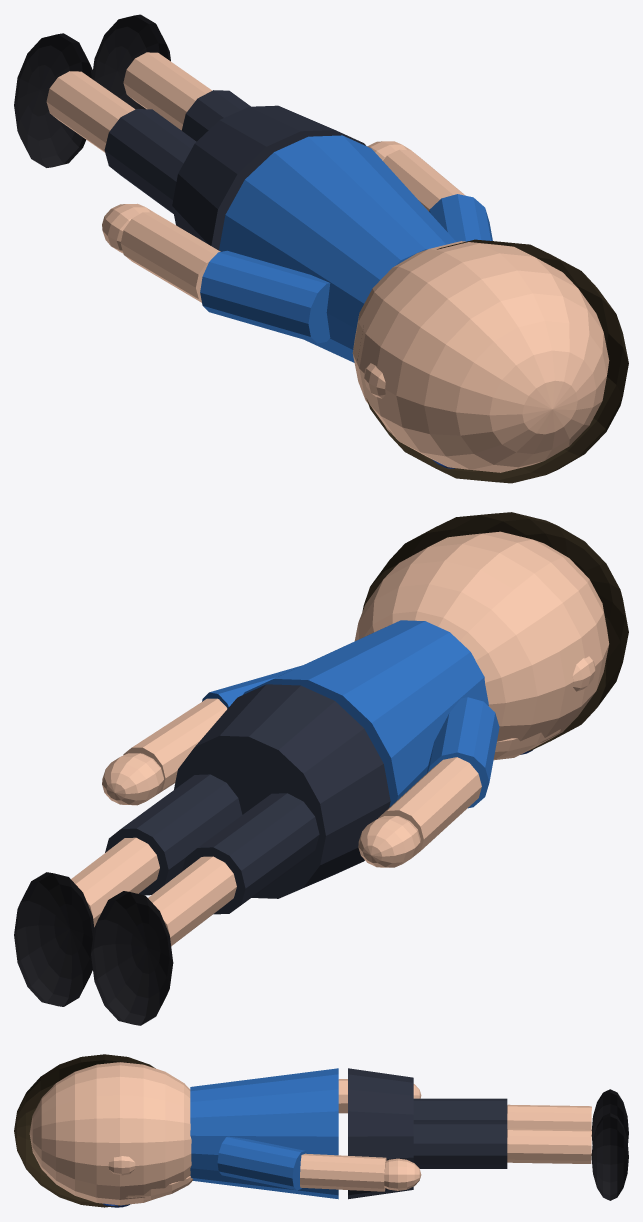
The model's file is anime_boy.obj.
3 renders of one model, top to bottom at view 1: azimuth 30°, elevation 25°; view 2: azimuth 150°, elevation 25°; view 3: azimuth 270°, elevation 25°, orthographic. The views are drawn at different scales.
Parts seen in each view (by area): view 1: Head, Torso, Waist, UpperArm_-1, HairCap, Shoe_-1, Thigh_-1, ForeArm_-1, LowerLeg_-1, LowerLeg_1, Shoe_1, ForeArm_1 (+3 smaller); view 2: Head, Waist, Torso, Shoe_-1, Shoe_1, HairCap, Thigh_-1, Thigh_1, ForeArm_-1, LowerLeg_-1, UpperArm_-1, LowerLeg_1 (+5 smaller); view 3: Head, Torso, Waist, Thigh_1, UpperArm_1, HairCap, ForeArm_1, LowerLeg_1, Shoe_1, Thigh_-1, LowerLeg_-1, Hand_1 (+4 smaller).
Boxes of the visible parts, left/top/right/bottom form: Head: left=352, top=241, right=609, bottom=472; Torso: left=219, top=135, right=456, bottom=362; Waist: left=172, top=105, right=365, bottom=250; UpperArm_-1: left=200, top=250, right=330, bottom=343; HairCap: left=357, top=239, right=628, bottom=483; Shoe_-1: left=14, top=33, right=93, bottom=167; Thigh_-1: left=104, top=109, right=196, bottom=213; ForeArm_-1: left=120, top=212, right=220, bottom=302; LowerLeg_-1: left=46, top=71, right=135, bottom=152; LowerLeg_1: left=123, top=52, right=212, bottom=130; Shoe_1: left=93, top=14, right=170, bottom=109; ForeArm_1: left=383, top=149, right=465, bottom=211; Head: left=354, top=531, right=609, bottom=760; Waist: left=174, top=684, right=390, bottom=898; Torso: left=243, top=620, right=488, bottom=807; Shoe_-1: left=91, top=891, right=173, bottom=1025; Shoe_1: left=14, top=872, right=94, bottom=1006; HairCap: left=362, top=512, right=628, bottom=751; Thigh_-1: left=182, top=793, right=319, bottom=914; Thigh_1: left=105, top=774, right=242, bottom=895; ForeArm_-1: left=378, top=757, right=481, bottom=856; LowerLeg_-1: left=148, top=856, right=236, bottom=945; UpperArm_-1: left=427, top=697, right=499, bottom=808; LowerLeg_1: left=71, top=837, right=159, bottom=927; Head: left=29, top=1062, right=191, bottom=1205; Torso: left=190, top=1068, right=338, bottom=1199; Waist: left=348, top=1068, right=413, bottom=1199; Thigh_1: left=413, top=1122, right=507, bottom=1168; UpperArm_1: left=217, top=1136, right=307, bottom=1190; HairCap: left=14, top=1054, right=155, bottom=1207; ForeArm_1: left=300, top=1153, right=386, bottom=1191; LowerLeg_1: left=507, top=1128, right=591, bottom=1163; Shoe_1: left=591, top=1113, right=628, bottom=1200; Thigh_-1: left=413, top=1098, right=507, bottom=1122; LowerLeg_-1: left=507, top=1104, right=591, bottom=1129; Hand_1: left=384, top=1158, right=421, bottom=1190.
Bounding box in the file's own units: 1.44 × 0.9454 × 3.94.
